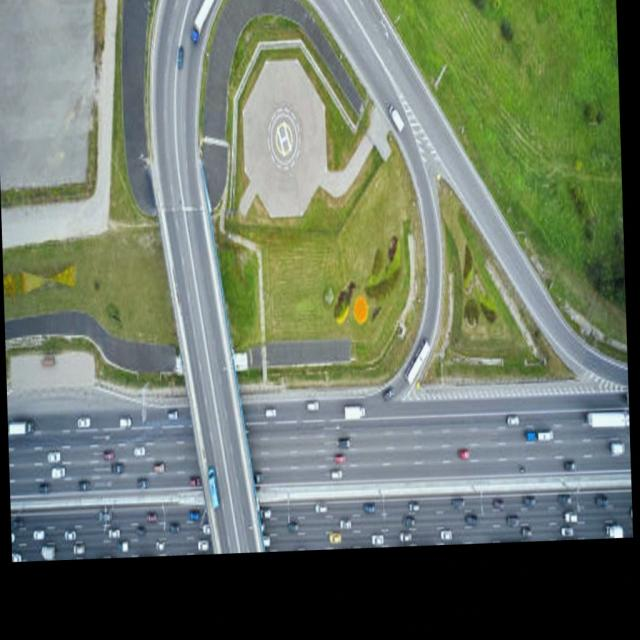helipad: (269, 112, 299, 166)
